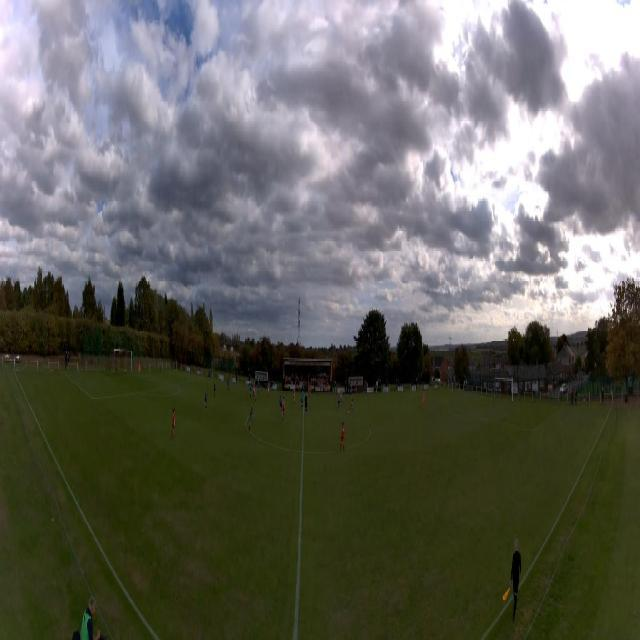ball: (348, 411, 350, 413)
player: (170, 406, 176, 443), (340, 422, 346, 451), (248, 405, 253, 433), (349, 396, 354, 414), (304, 393, 308, 415), (279, 394, 283, 416), (339, 386, 343, 406), (337, 393, 341, 412), (204, 388, 207, 412), (283, 395, 286, 417), (308, 383, 312, 399), (422, 391, 425, 411), (249, 381, 252, 400), (138, 360, 141, 378), (301, 391, 304, 409), (293, 387, 296, 405), (254, 386, 257, 404), (213, 380, 216, 398), (227, 376, 230, 393), (267, 381, 269, 397), (257, 380, 259, 395), (253, 384, 255, 396), (302, 383, 304, 391)
